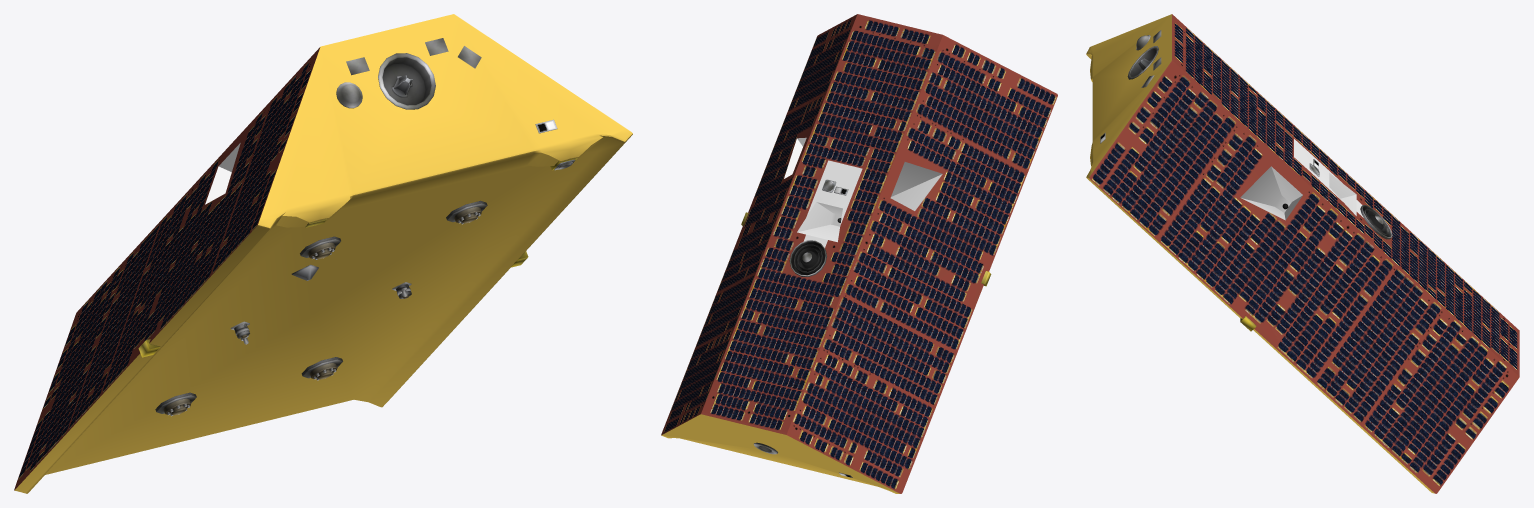
Rendered from grace-fo.glb.
3 renders of one model, left to right at view 1: azimuth 30°, elevation 25°; view 2: azimuth 150°, elevation 25°; view 3: azimuth 270°, elevation 25°, orthographic. The views are drawn at different scales.
Visible parts, largest first — view 1: BUS, Instruments; view 2: BUS, Instruments; view 3: BUS, Instruments.
Part boxes in pixels (<box>): BUS: <box>14,14,632,493</box>; Instruments: <box>138,38,577,416</box>; BUS: <box>661,14,1057,493</box>; Instruments: <box>741,179,991,477</box>; BUS: <box>1086,14,1519,493</box>; Instruments: <box>1100,30,1392,331</box>.
Bounding box in the file's own units: 62.29 × 87.08 × 86.76.
4 materials, 2 textured.
